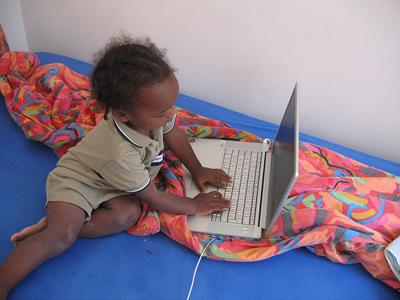person: (2, 34, 234, 298)
